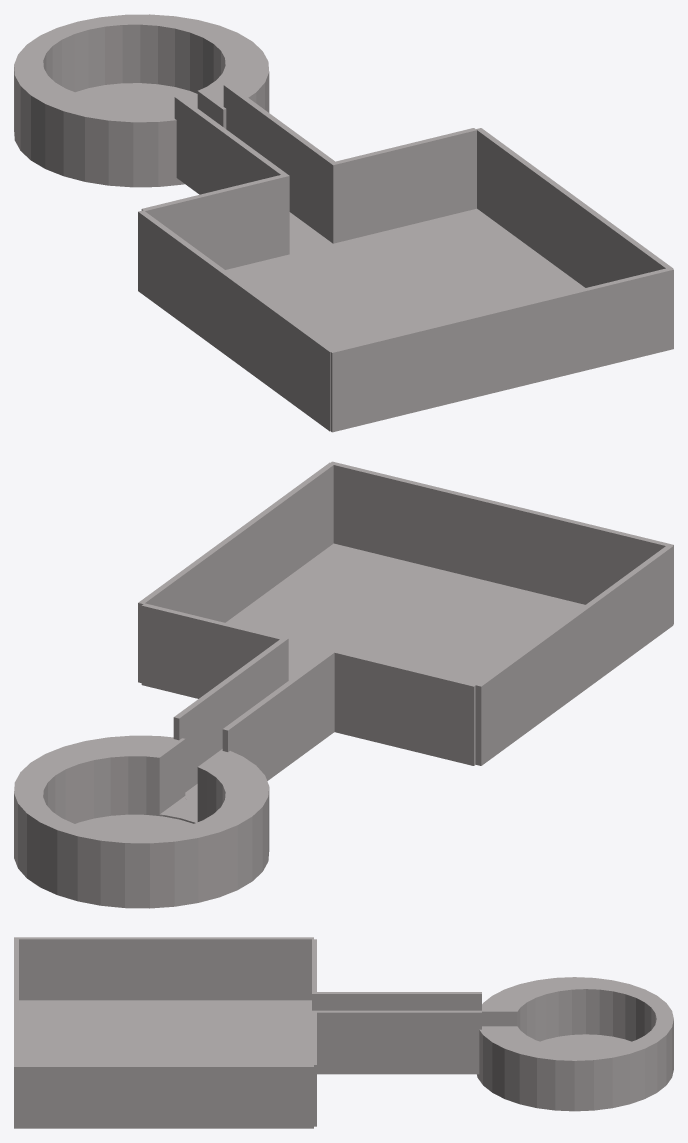
File: stage.obj
3 renders of one model, top to bottom at view 1: azimuth 30°, elevation 25°; view 2: azimuth 150°, elevation 25°; view 3: azimuth 270°, elevation 25°, orthographic. The views are drawn at different scales.
Parts seen in each view (by area): view 1: 円柱; view 2: 円柱; view 3: 円柱.
Boxes of the visible parts, x1=… form: 円柱: x1=14, y1=14, x2=673, y2=432; 円柱: x1=14, y1=461, x2=673, y2=908; 円柱: x1=14, y1=937, x2=673, y2=1128.
Bounding box in the file's own units: 217 × 52.41 × 466.
2 materials, 2 textured.
